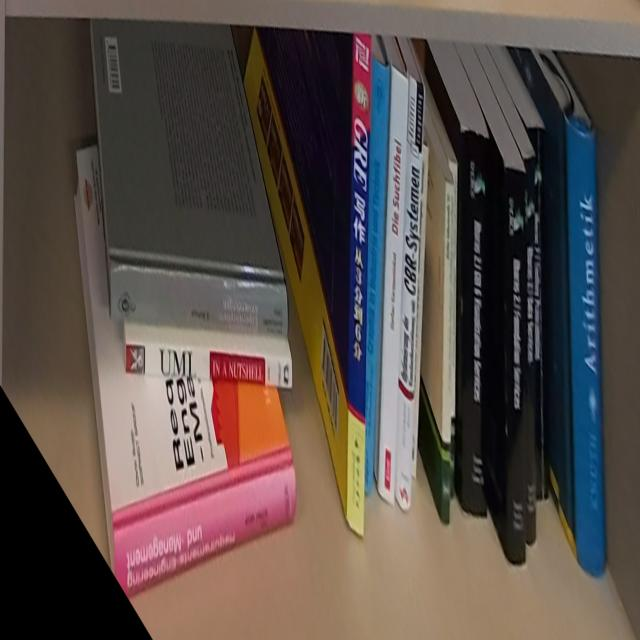Book Spine: (112, 464, 296, 599), (567, 125, 608, 581), (113, 255, 289, 345), (344, 28, 374, 544), (393, 79, 424, 516), (379, 71, 410, 499), (457, 126, 490, 521), (365, 60, 393, 503), (523, 118, 546, 507), (505, 167, 526, 565), (125, 342, 295, 391), (410, 149, 430, 482), (523, 150, 538, 551), (441, 177, 456, 527), (449, 157, 460, 503)
